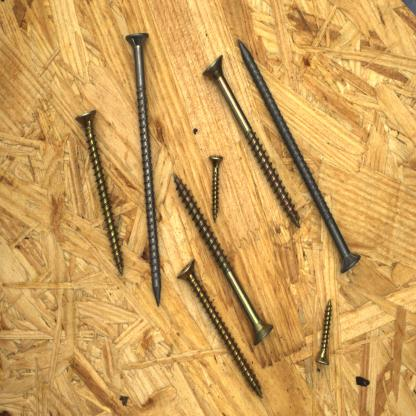screw: (236, 35, 361, 276), (200, 50, 304, 231), (172, 171, 276, 346), (176, 255, 264, 399), (125, 30, 162, 308), (75, 108, 126, 280), (315, 298, 333, 367), (208, 155, 224, 222)
